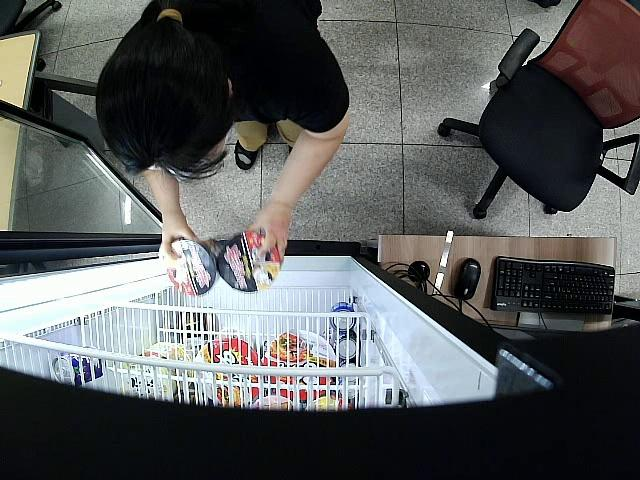00_hand: (242, 205, 289, 263), (158, 221, 202, 262)
07_buldak_L: (220, 232, 282, 294), (165, 237, 217, 294)
